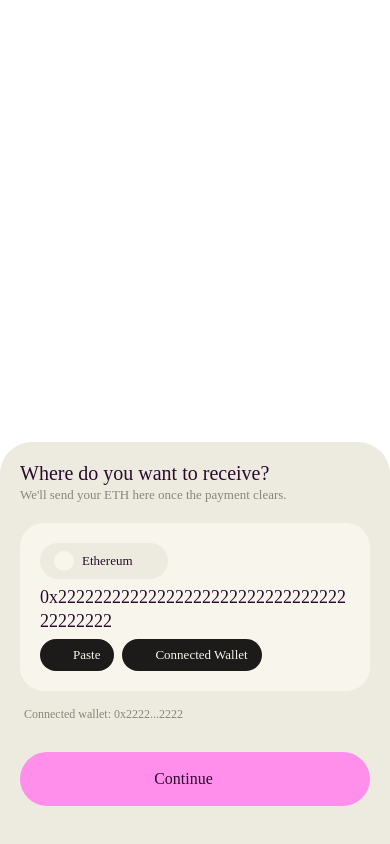
Test: MomoSheet › onramp — "where do you want to receive" step › shows a back button only on steps that actually have somewhere to go back to
The width and height of the screenshot is (390, 844).
(page scrolled)
Click the button with test id "momo-receive-continue" at (195, 779), box left=20, top=752, right=370, bottom=806
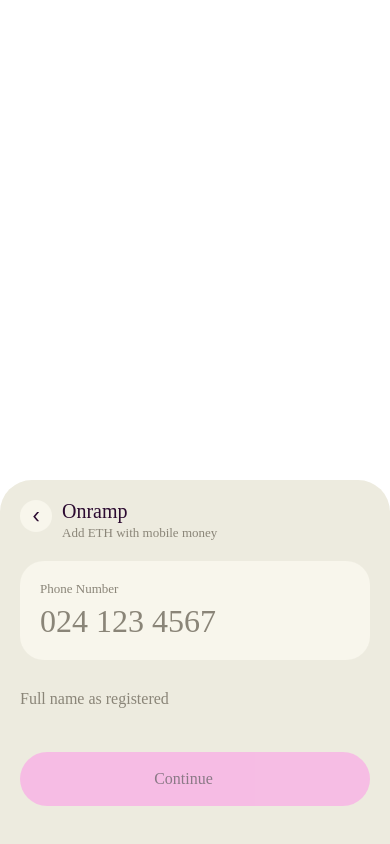
expect the button with test id "momo-sheet-back" is shown: met
Click the button with test id "momo-sheet-back" at (36, 516), box left=20, top=500, right=52, bottom=532
(page scrolled)
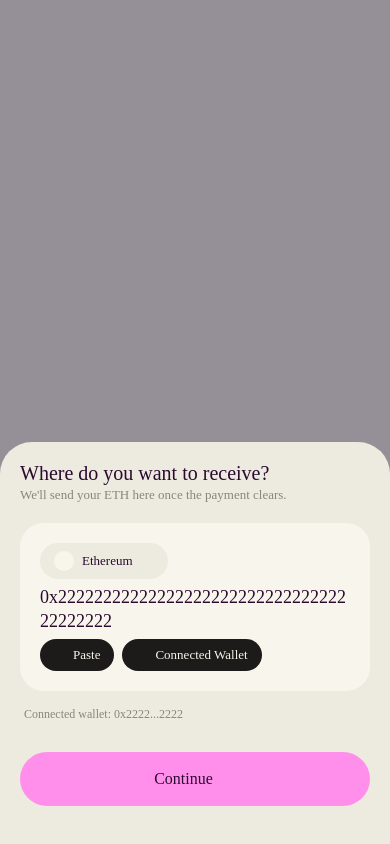
expect the text "Where do you want to receive?" is shown: met, box left=20, top=462, right=287, bottom=485
expect the button with test id "momo-sheet-back" is gone: met
